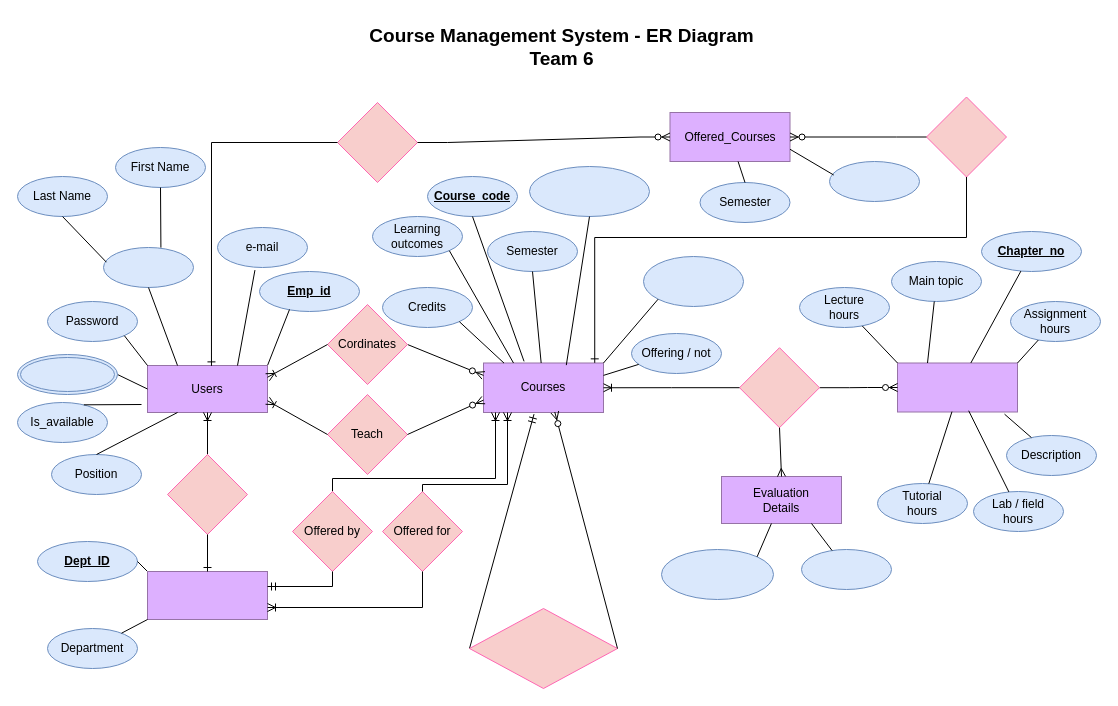
This 1118x706 diagram has some shape labels left out. The centre of each missing label's shape, as x and y in pixels:
"Assignment method" belongs at (717,574).
"Batch" belongs at (874,181).
"Belongs" belongs at (207,494).
"decided by" belongs at (377,142).
"Departments" belongs at (207,595).
"Has" belongs at (779,387).
"Name" belongs at (148,267).
"needs (Prerequisites)" belongs at (543,648).
"Percentage" belongs at (846,569).
"Phone number" belongs at (67,374).
"Selects from" belongs at (966,136).
"Senate approved / not" belongs at (693,281).
"Syllabus_Outline" belongs at (957,387).
"Type (Core / Elective)" belongs at (589,191).
